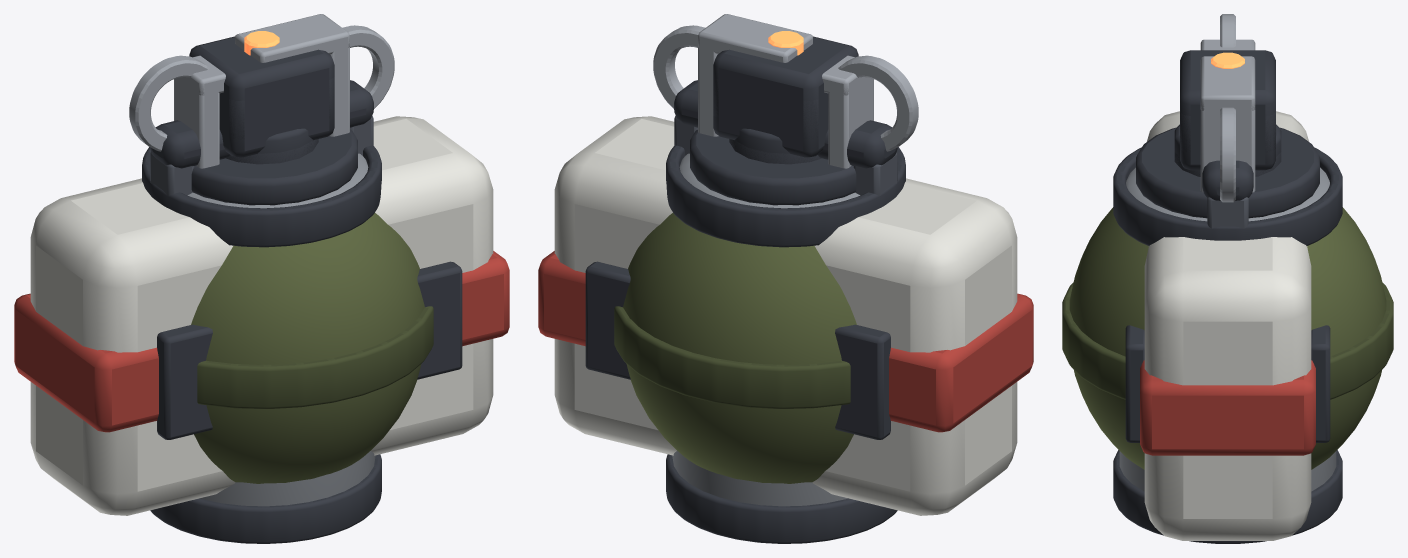
File: items_upload.glb
The picture shows the model from 3 angles, left to right: view 1: azimuth 30°, elevation 25°; view 2: azimuth 150°, elevation 25°; view 3: azimuth 270°, elevation 25°; orthographic projection. The views are drawn at different scales.
Parts seen in each view (by area): view 1: medkit_body__pe2e2dc, frag_body__p5d6741, smoke_rim__p3b3f48, medkit_band__pb4473f, frag_band__p4a5334, medkit_latch__p3b3f48, smoke_fuse__p3b3f48, smoke_cap__p3b3f48, frag_fuse__p3b3f48, smoke_body__p8e939a, smoke_spoon__pa3a8b0, frag_spoon__pa3a8b0 (+6 smaller); view 2: medkit_body__pe2e2dc, frag_body__p5d6741, smoke_rim__p3b3f48, medkit_band__pb4473f, frag_band__p4a5334, medkit_latch__p3b3f48, smoke_fuse__p3b3f48, smoke_cap__p3b3f48, frag_fuse__p3b3f48, smoke_body__p8e939a, smoke_spoon__pa3a8b0, frag_spoon__pa3a8b0 (+6 smaller); view 3: medkit_body__pe2e2dc, frag_body__p5d6741, medkit_band__pb4473f, smoke_rim__p3b3f48, smoke_cap__p3b3f48, frag_band__p4a5334, smoke_spoon__pa3a8b0, smoke_fuse__p3b3f48, medkit_latch__p3b3f48, smoke_body__p8e939a, frag_fuse__p3b3f48, frag_ring__pa3a8b0 (+6 smaller).
Part boxes in pixels (x1=…): medkit_body__pe2e2dc: x1=30, y1=116, x2=493, y2=515; frag_body__p5d6741: x1=191, y1=213, x2=424, y2=483; smoke_rim__p3b3f48: x1=142, y1=145, x2=381, y2=543; medkit_band__pb4473f: x1=14, y1=251, x2=509, y2=432; frag_band__p4a5334: x1=197, y1=306, x2=433, y2=408; medkit_latch__p3b3f48: x1=157, y1=261, x2=462, y2=439; smoke_fuse__p3b3f48: x1=189, y1=36, x2=334, y2=139; smoke_cap__p3b3f48: x1=191, y1=130, x2=357, y2=205; frag_fuse__p3b3f48: x1=219, y1=77, x2=334, y2=157; smoke_body__p8e939a: x1=187, y1=153, x2=375, y2=506; smoke_spoon__pa3a8b0: x1=235, y1=14, x2=349, y2=136; frag_spoon__pa3a8b0: x1=174, y1=55, x2=225, y2=168; medkit_body__pe2e2dc: x1=554, y1=116, x2=1017, y2=515; frag_body__p5d6741: x1=623, y1=213, x2=856, y2=483; smoke_rim__p3b3f48: x1=666, y1=145, x2=905, y2=543; medkit_band__pb4473f: x1=538, y1=251, x2=1033, y2=432; frag_band__p4a5334: x1=614, y1=306, x2=850, y2=408; medkit_latch__p3b3f48: x1=585, y1=261, x2=890, y2=439; smoke_fuse__p3b3f48: x1=713, y1=36, x2=858, y2=138; smoke_cap__p3b3f48: x1=690, y1=130, x2=856, y2=205; frag_fuse__p3b3f48: x1=713, y1=78, x2=828, y2=157; smoke_body__p8e939a: x1=672, y1=153, x2=860, y2=506; smoke_spoon__pa3a8b0: x1=698, y1=14, x2=812, y2=136; frag_spoon__pa3a8b0: x1=822, y1=55, x2=873, y2=168; medkit_body__pe2e2dc: x1=1144, y1=111, x2=1311, y2=540; frag_body__p5d6741: x1=1069, y1=207, x2=1386, y2=469; medkit_band__pb4473f: x1=1140, y1=360, x2=1315, y2=455; smoke_rim__p3b3f48: x1=1113, y1=147, x2=1342, y2=543; smoke_cap__p3b3f48: x1=1136, y1=127, x2=1319, y2=218; frag_band__p4a5334: x1=1062, y1=282, x2=1393, y2=399; smoke_spoon__pa3a8b0: x1=1200, y1=56, x2=1255, y2=192; smoke_fuse__p3b3f48: x1=1180, y1=50, x2=1275, y2=152; medkit_latch__p3b3f48: x1=1125, y1=325, x2=1330, y2=442; smoke_body__p8e939a: x1=1119, y1=167, x2=1336, y2=491; frag_fuse__p3b3f48: x1=1180, y1=112, x2=1275, y2=170; frag_ring__pa3a8b0: x1=1220, y1=107, x2=1235, y2=202.
Bounding box in the file's own units: 2.86 × 3.02 × 2.07.
